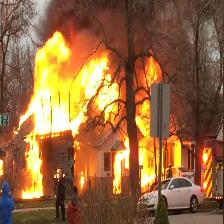fire: (36, 36, 71, 130), (75, 67, 115, 122), (29, 136, 42, 200)
smoke: (55, 3, 125, 31)
